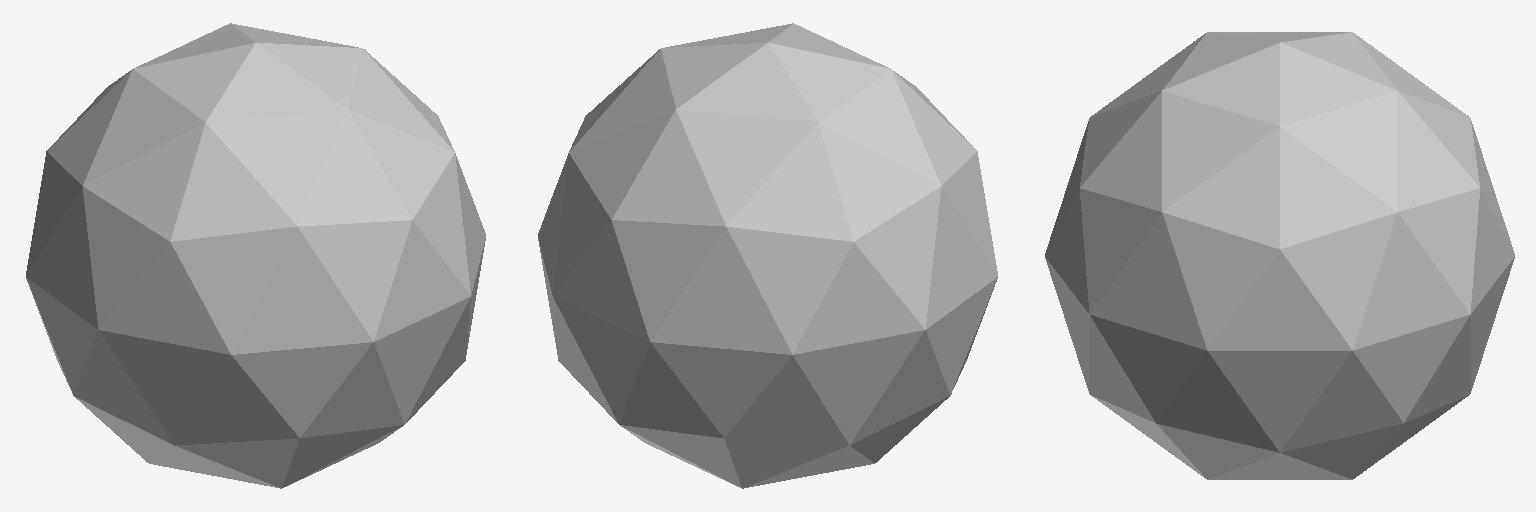
The model's file is pointshell_b-old.obj.
The picture shows the model from 3 angles: view 1: azimuth 30°, elevation 25°; view 2: azimuth 150°, elevation 25°; view 3: azimuth 270°, elevation 25°; orthographic projection.
Size of the model in its own units: 0.038 by 0.04 by 0.04.